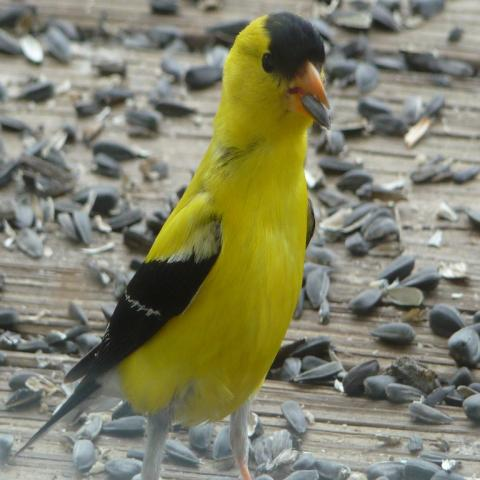bird: (10, 10, 334, 477)
